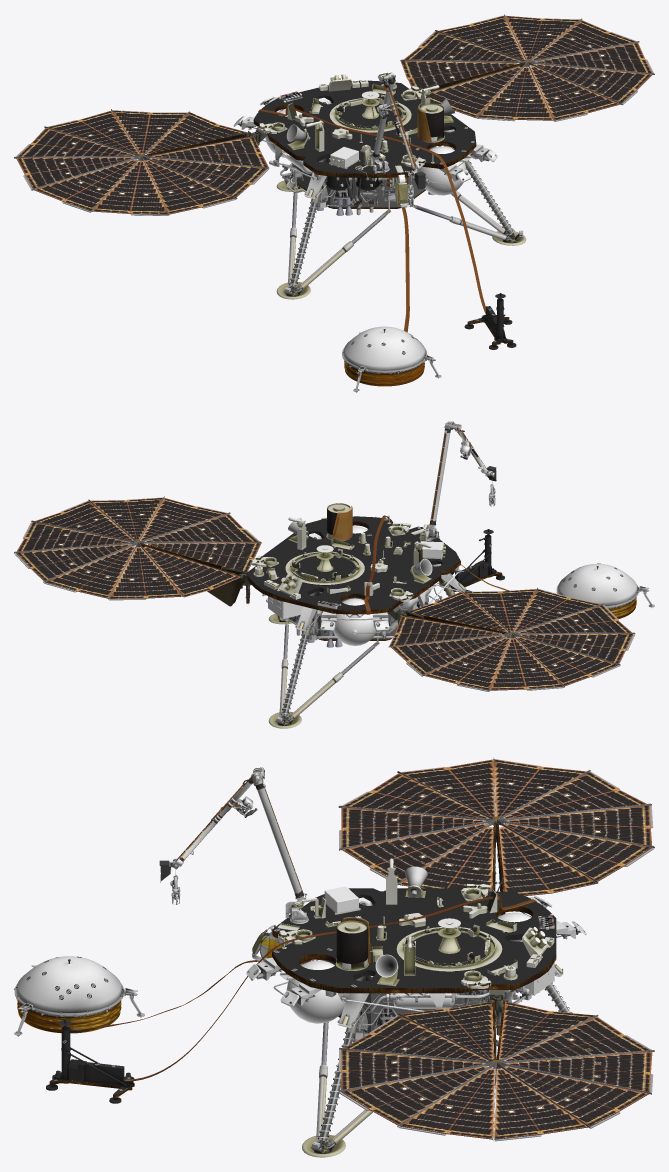
The model's file is insight.glb.
The picture shows the model from 3 angles, top to bottom: view 1: azimuth 30°, elevation 25°; view 2: azimuth 150°, elevation 25°; view 3: azimuth 270°, elevation 25°; orthographic projection. The views are drawn at different scales.
Parts seen in each view (by area): view 1: InSight_Deployed, Cube.095, Cube.091, Cube.053, Cube.079, Cube.096, Cube.001, Cube.081, Cube.093, Cube.059, Cube.083, Cube.089; view 2: InSight_Deployed, Cube.096, Cube.091, Cube.095, Cube.081, Cube.083, Cube.085, Cube.087, Cube.053, Cube.079, Cube.089, Cube.078 (+3 smaller); view 3: InSight_Deployed, Cube.091, Cube.095, Cube.059, Cube.089, Cube.087, Cube.093, Cube.053, Cube.057, Cube.085, Cube.096, Cube.083 (+5 smaller).
Boxes of the visible parts, bbox=[...] form: InSight_Deployed: bbox=[14, 14, 654, 392]; Cube.095: bbox=[477, 66, 526, 121]; Cube.091: bbox=[537, 65, 637, 104]; Cube.053: bbox=[152, 136, 261, 156]; Cube.079: bbox=[404, 63, 516, 79]; Cube.096: bbox=[451, 68, 520, 117]; Cube.001: bbox=[34, 160, 136, 201]; Cube.081: bbox=[418, 31, 520, 61]; Cube.093: bbox=[530, 66, 586, 121]; Cube.059: bbox=[146, 120, 218, 154]; Cube.083: bbox=[470, 15, 525, 60]; Cube.089: bbox=[542, 59, 653, 74]; InSight_Deployed: bbox=[14, 421, 654, 728]; Cube.096: bbox=[148, 543, 261, 558]; Cube.091: bbox=[126, 497, 162, 539]; Cube.095: bbox=[150, 529, 259, 541]; Cube.081: bbox=[109, 547, 146, 600]; Cube.083: bbox=[44, 546, 133, 592]; Cube.085: bbox=[14, 544, 130, 568]; Cube.087: bbox=[23, 522, 130, 542]; Cube.053: bbox=[409, 603, 500, 630]; Cube.079: bbox=[143, 547, 212, 597]; Cube.089: bbox=[61, 501, 133, 540]; Cube.078: bbox=[145, 546, 240, 588]; InSight_Deployed: bbox=[14, 757, 654, 1157]; Cube.091: bbox=[339, 1066, 487, 1110]; Cube.095: bbox=[369, 1015, 488, 1060]; Cube.059: bbox=[502, 827, 597, 893]; Cube.089: bbox=[398, 1068, 492, 1135]; Cube.087: bbox=[494, 1068, 541, 1141]; Cube.093: bbox=[338, 1050, 485, 1072]; Cube.053: bbox=[448, 827, 493, 891]; Cube.057: bbox=[341, 824, 487, 858]; Cube.085: bbox=[504, 1067, 619, 1128]; Cube.096: bbox=[401, 1008, 485, 1056]; Cube.083: bbox=[513, 1065, 653, 1092].
Bounding box in the file's own units: 6.14 × 2.19 × 4.35.
Materials: 13 (11 with a texture image).
